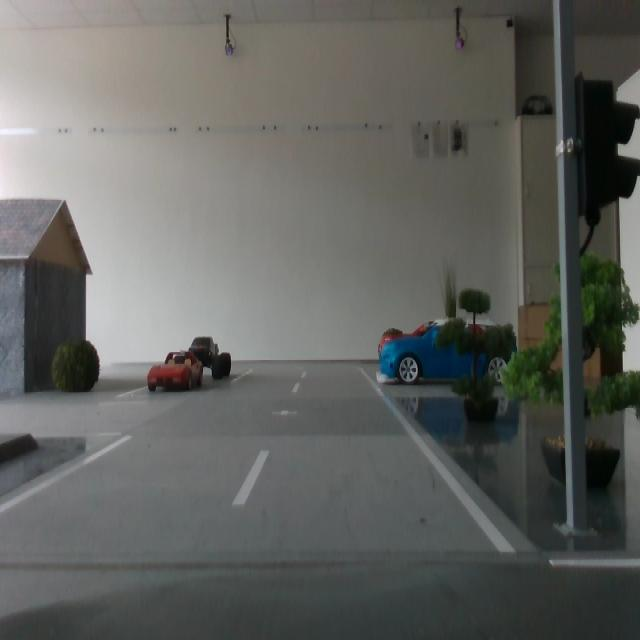car: (378, 317, 517, 385), (378, 319, 517, 381), (175, 337, 235, 386), (146, 350, 207, 396)
potted plant: (503, 247, 640, 492), (435, 286, 519, 429), (51, 337, 103, 397), (439, 263, 459, 368), (380, 326, 409, 367)
traffic light: (575, 72, 640, 226)
